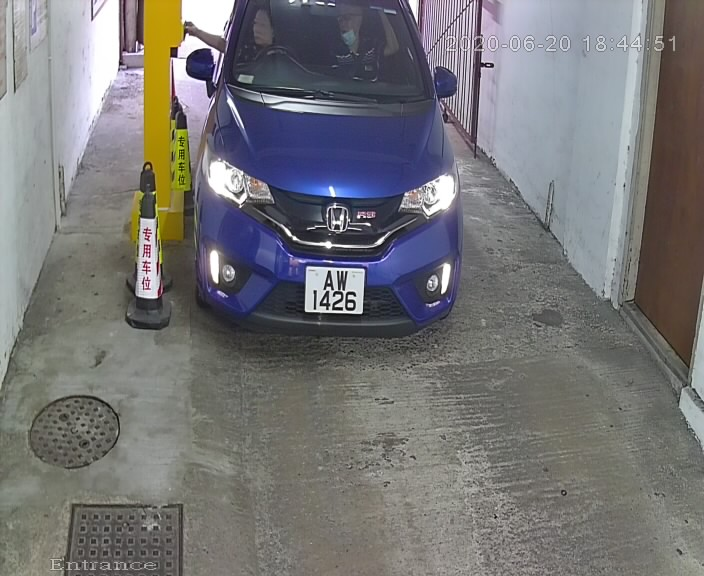privatecar: (166, 2, 485, 356)
